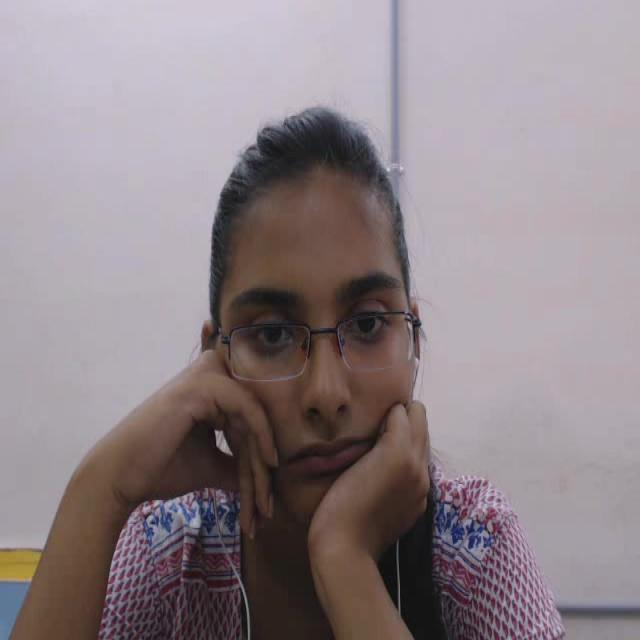Bored: (174, 87, 439, 560)
